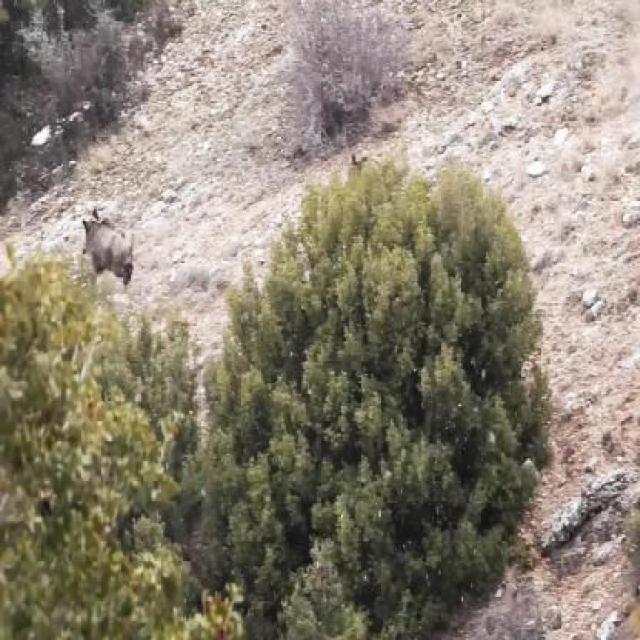WildBoar: (66, 203, 154, 306)
